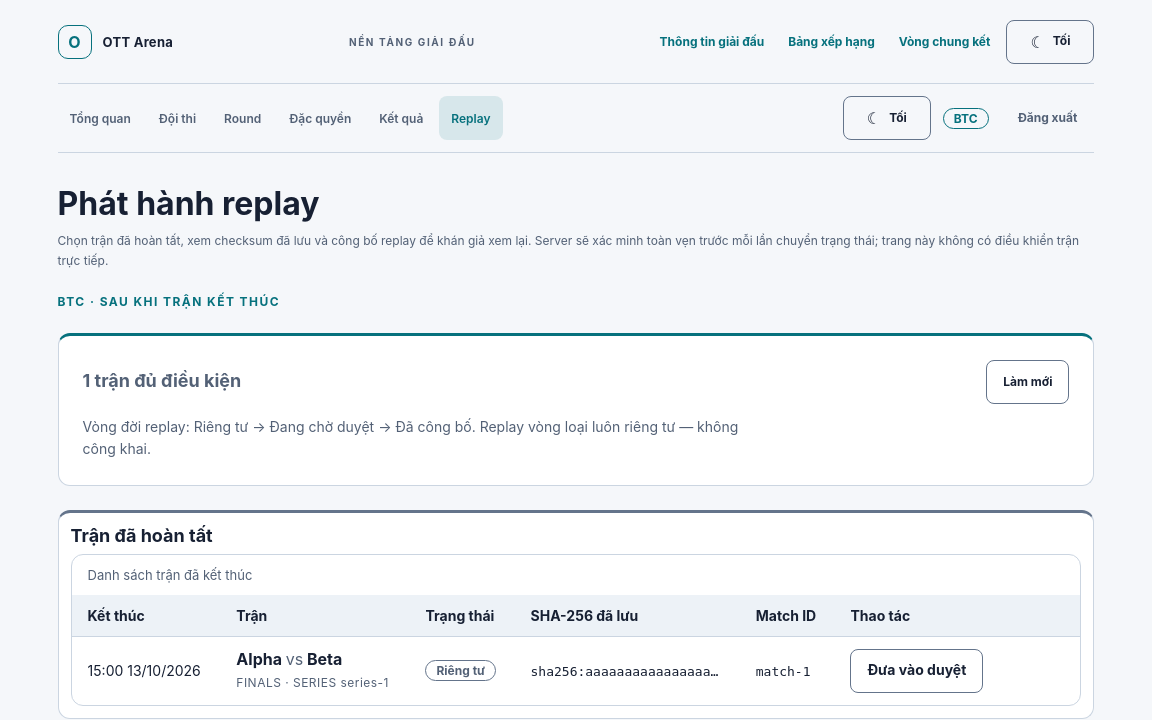
BTC replay publication console › loads terminal matches and reflects server-confirmed stage and publish states
Expected: the heading "Phát hành replay" is shown, left=58, top=184, right=320, bottom=223
Expected: the heading "Alpha vs Beta" is shown, left=236, top=649, right=342, bottom=669
Click the button "Đưa vào duyệt": (917, 670) left=850, top=648, right=983, bottom=692
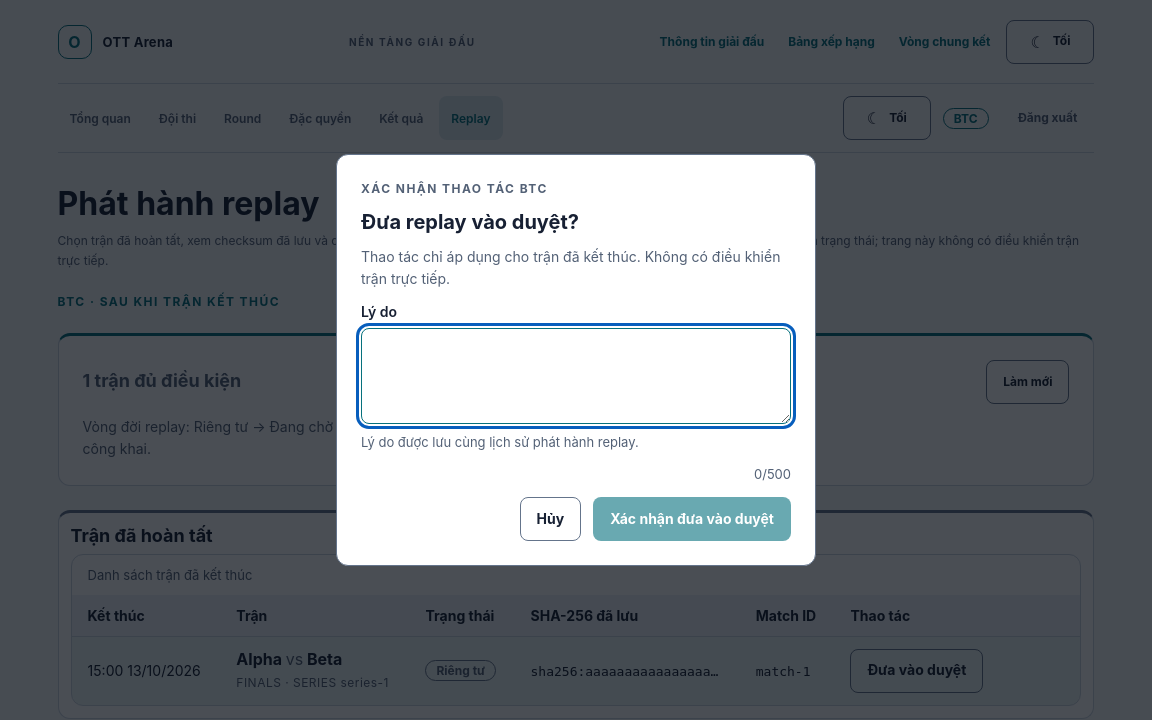
In the text box labelled "Lý do": (576, 376) left=361, top=328, right=791, bottom=424, type "Đã kiểm tra kết quả"
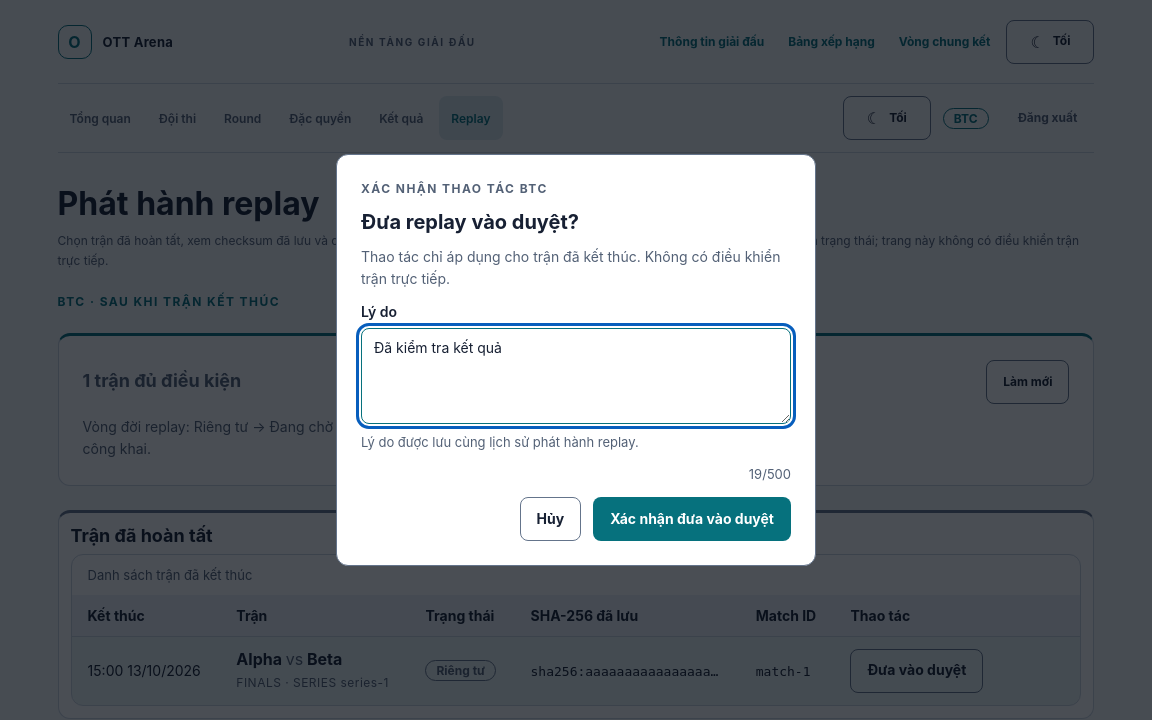
Click the button "Xác nhận đưa vào duyệt": (692, 519) left=593, top=497, right=791, bottom=541
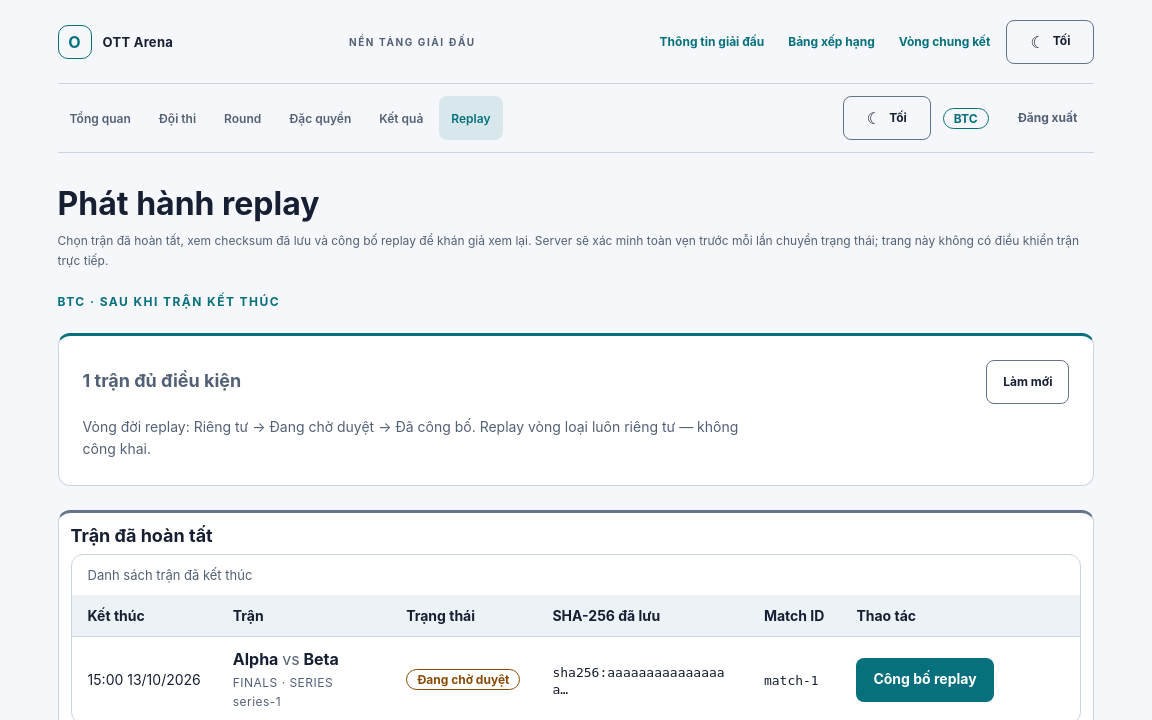
Expected: the text "Đang chờ duyệt" is shown, left=406, top=669, right=520, bottom=690
Click the button "Công bố replay": (925, 680) left=856, top=658, right=994, bottom=702
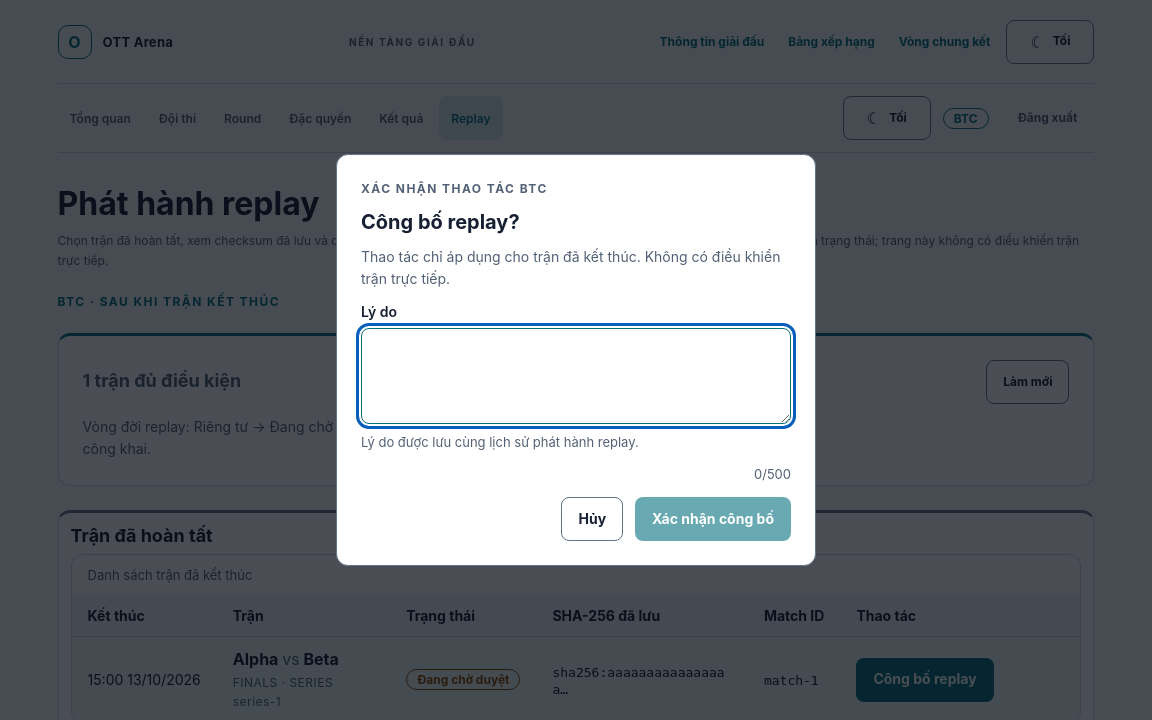
In the text box labelled "Lý do": (576, 376) left=361, top=328, right=791, bottom=424, type "Đủ điều kiện trình chiếu"
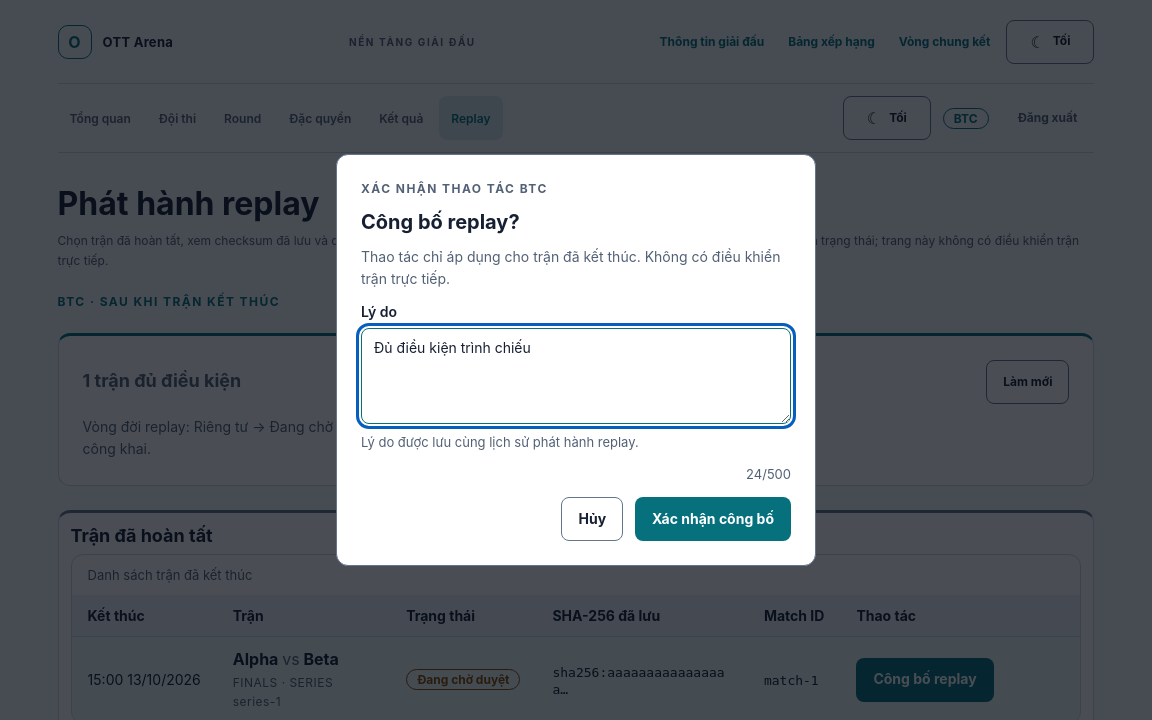
Click the button "Xác nhận công bố": (713, 519) left=635, top=497, right=791, bottom=541
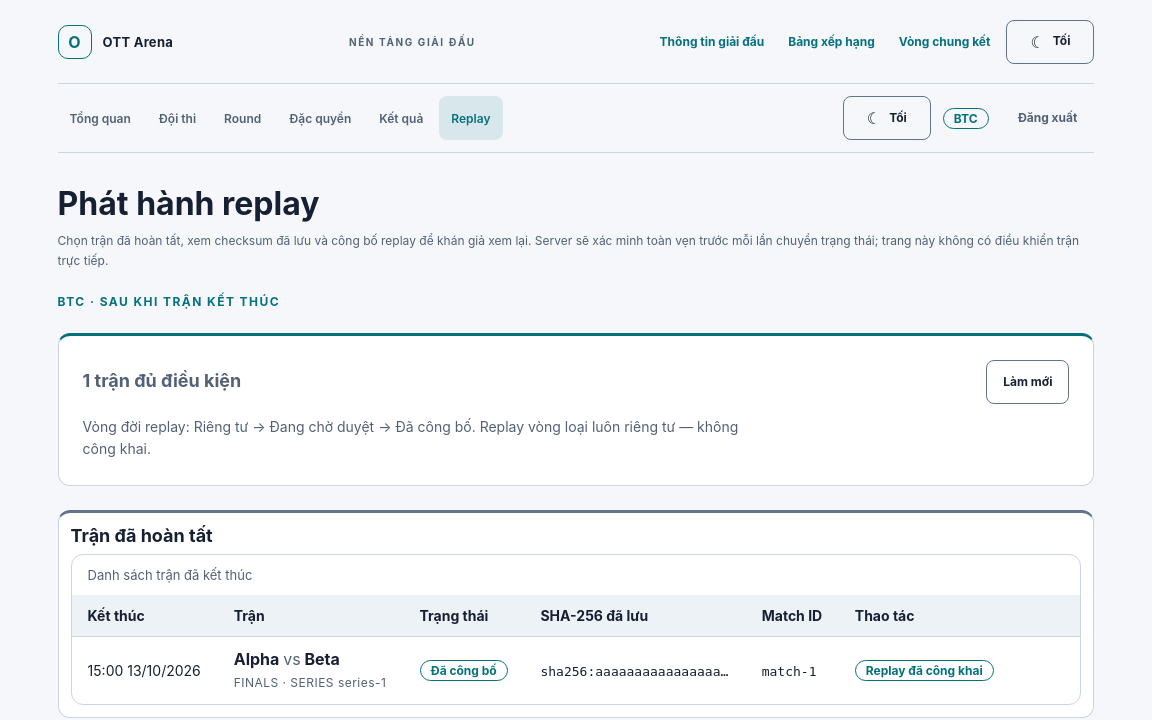
Expected: the text "Đã công bố" is shown, left=420, top=660, right=508, bottom=681
